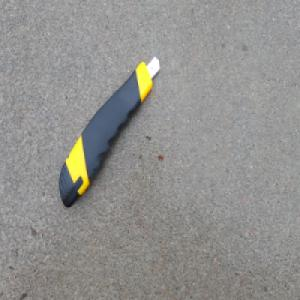Cutter: (58, 54, 160, 208)
